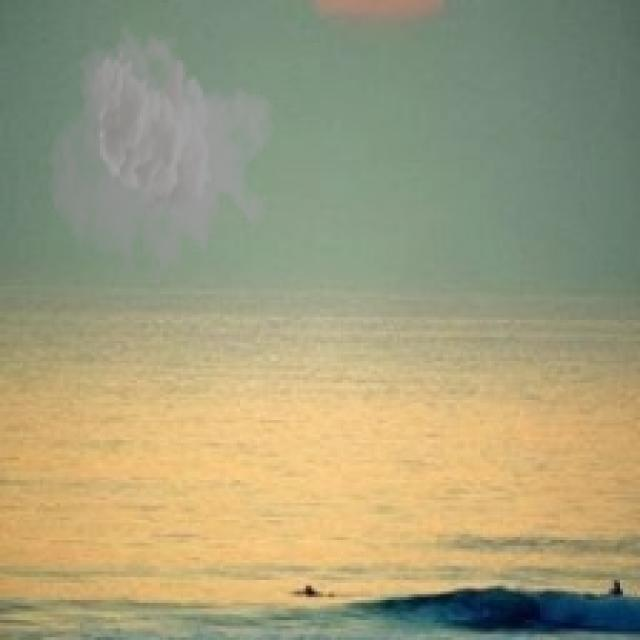smoke: (46, 20, 277, 297)
